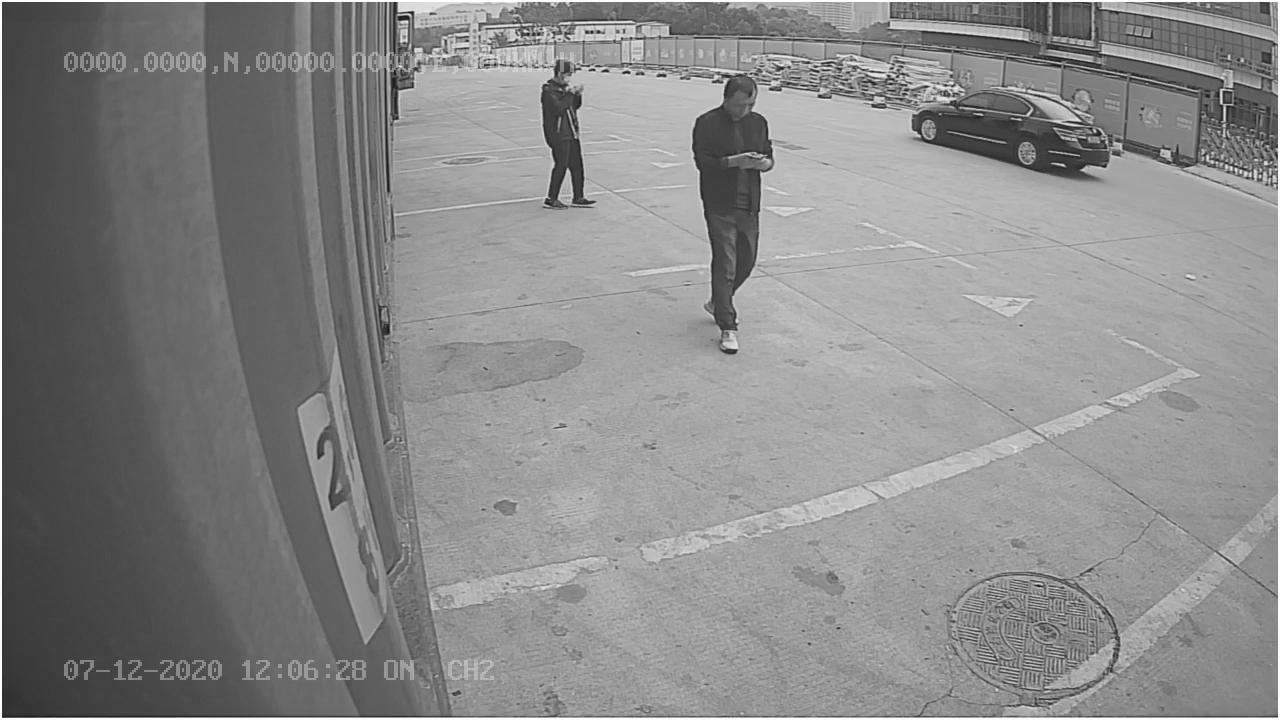person: (691, 65, 775, 354)
